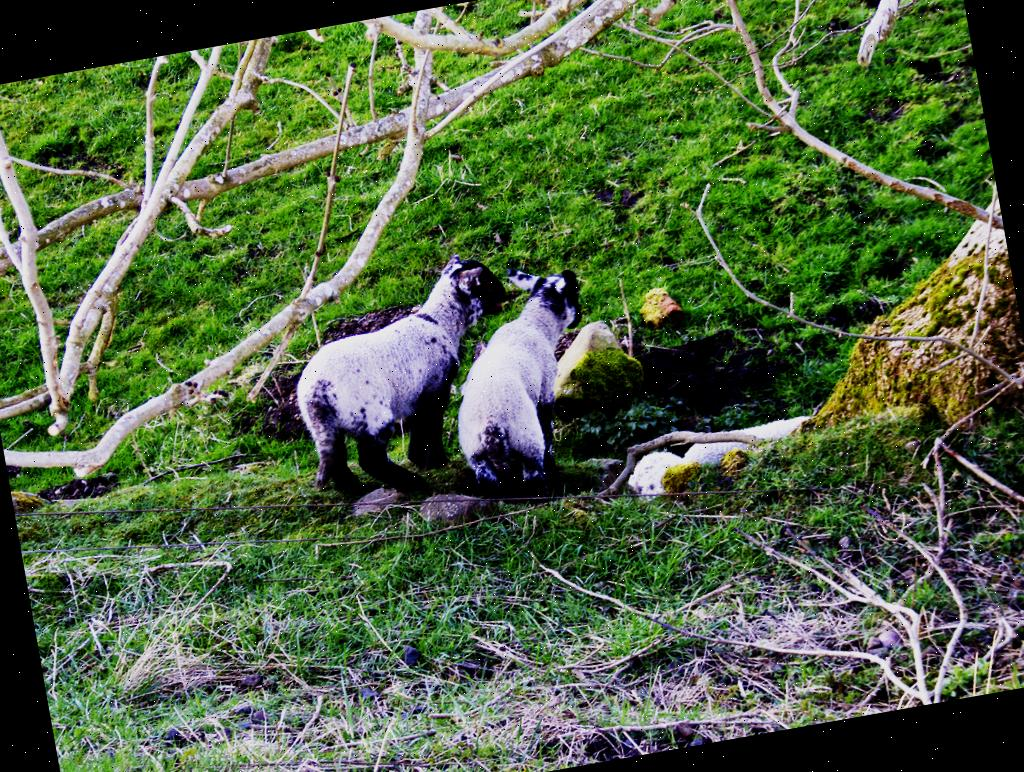Sheep: (277, 251, 531, 485), (428, 256, 612, 502)
